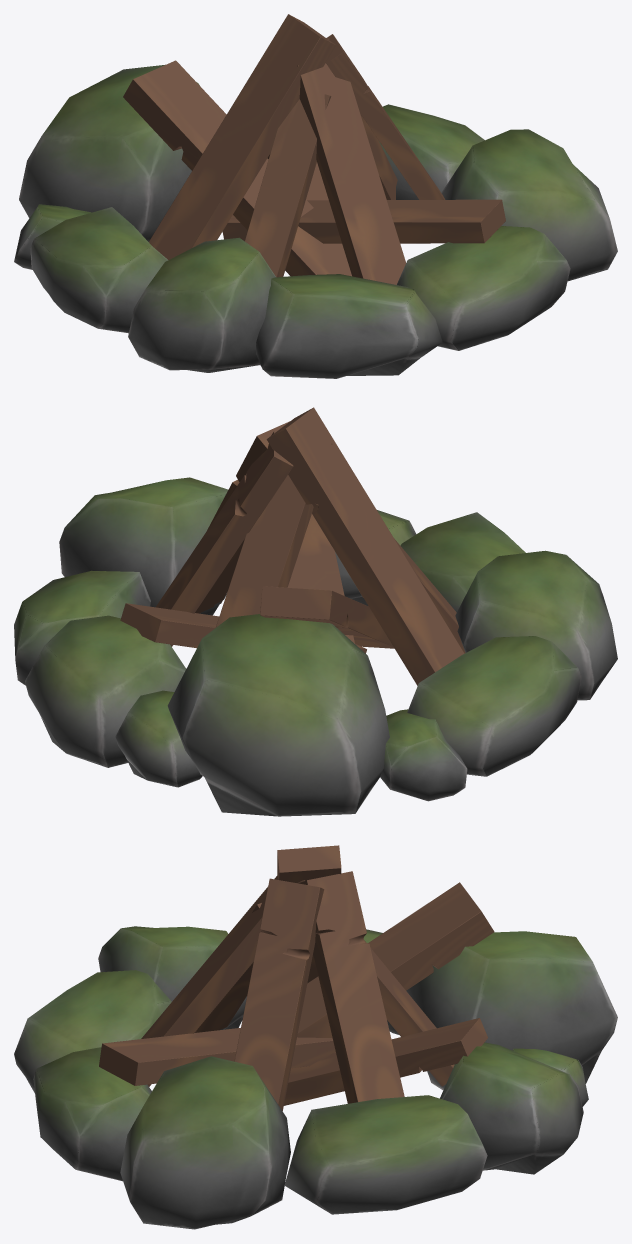
Rendered from Campfire.fbx.
3 renders of one model, top to bottom at view 1: azimuth 30°, elevation 25°; view 2: azimuth 150°, elevation 25°; view 3: azimuth 270°, elevation 25°, orthographic. The views are drawn at different scales.
Parts seen in each view (by area): view 1: F_Beam_02; view 2: F_Beam_02; view 3: F_Beam_02.
Part boxes in pixels (<box>): F_Beam_02: <box>14,14,617,378</box>; F_Beam_02: <box>14,407,617,816</box>; F_Beam_02: <box>14,845,617,1229</box>.
Size of the model in its own units: 188 by 93.48 by 187.
